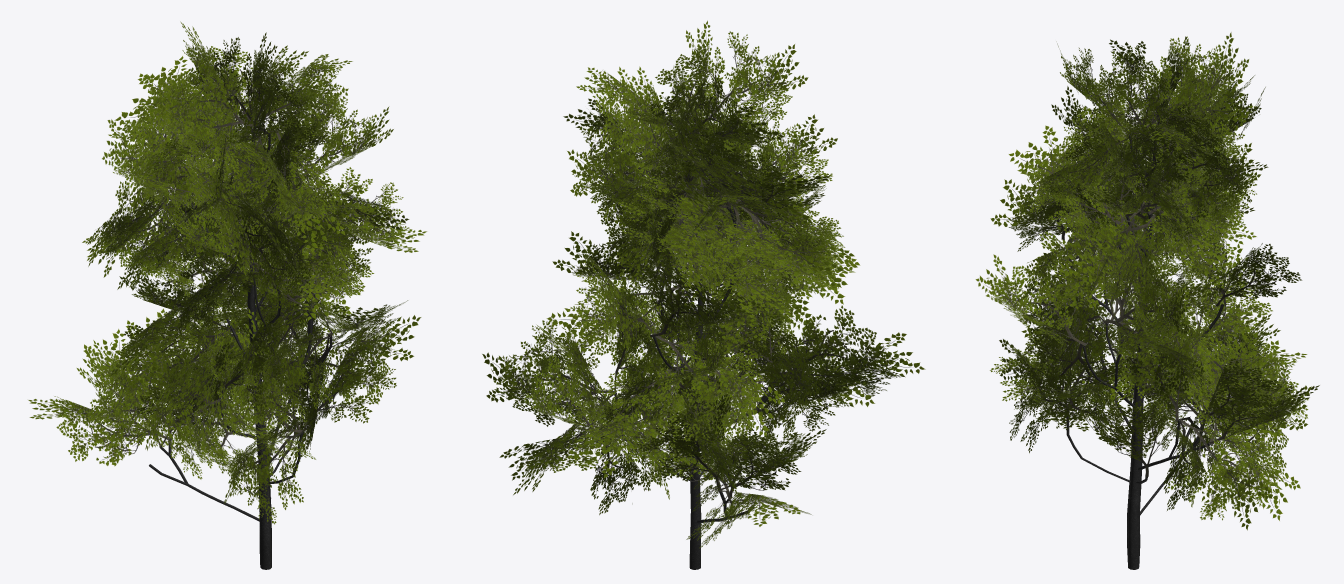
File: tree4.glb
3 views of the same model, side by side, from view 1: azimuth 30°, elevation 25°; view 2: azimuth 150°, elevation 25°; view 3: azimuth 270°, elevation 25° (orthographic).
Parts seen in each view (by area): view 1: DeciduousShrub2; view 2: DeciduousShrub2; view 3: DeciduousShrub2.
Boxes of the visible parts, left/top/right/bottom form: DeciduousShrub2: left=28, top=21, right=427, bottom=569; DeciduousShrub2: left=482, top=20, right=925, bottom=569; DeciduousShrub2: left=975, top=32, right=1319, bottom=569.
Bounding box in the file's own units: 10.87 × 14.81 × 9.14.
2 materials, 2 textured.
